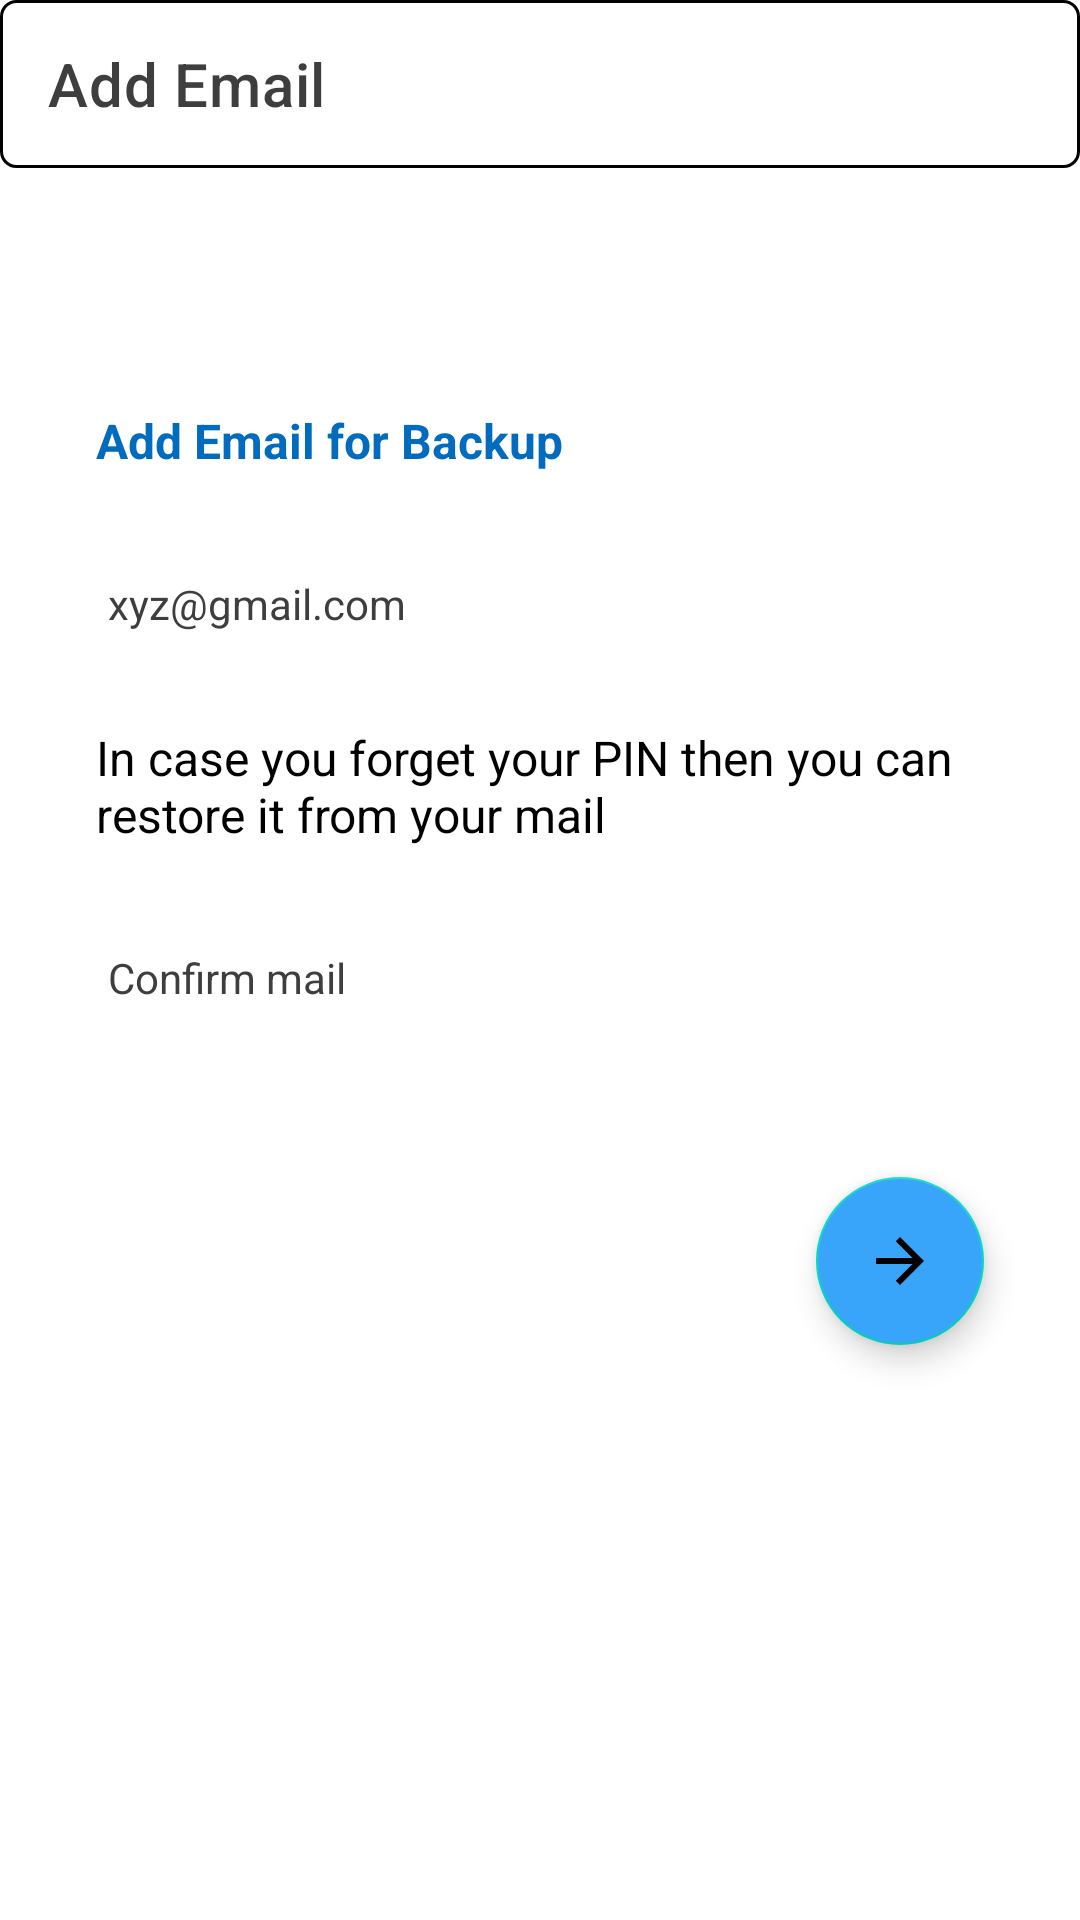

Named icons in this screenshot (1080 × 1920) and their bounding boxes, bbox=[x1, y1, x2, y2]:
arrow forward: bbox=[816, 1177, 984, 1345]
